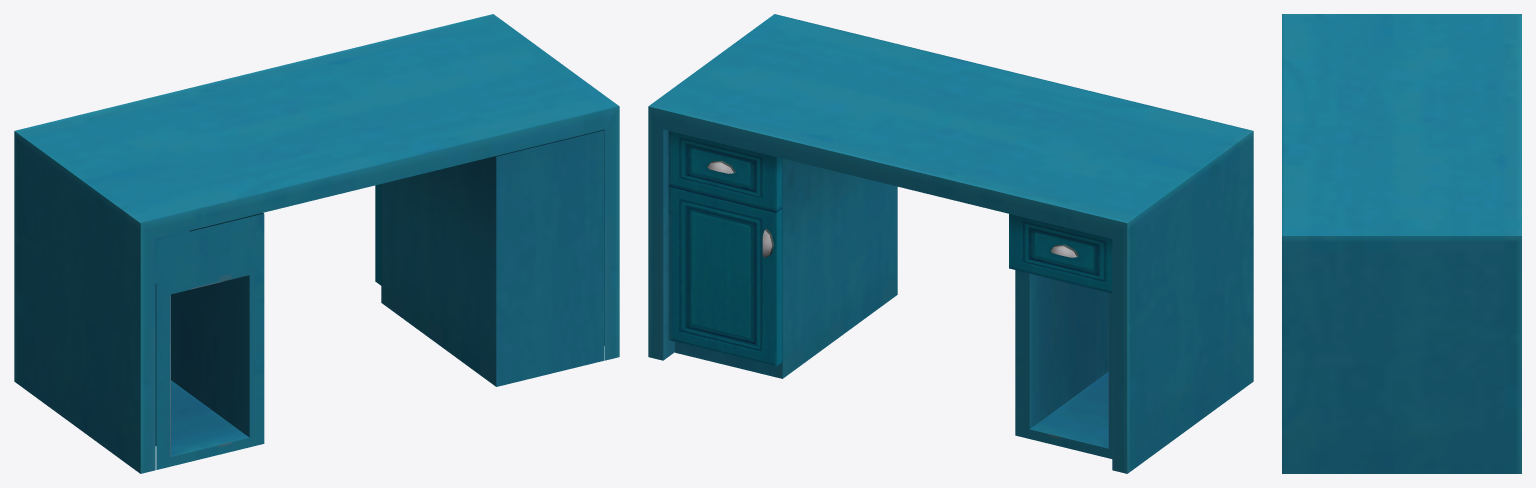
The model's file is furni_0200037_02.FBX.
3 views of the same model, side by side, from view 1: azimuth 30°, elevation 25°; view 2: azimuth 150°, elevation 25°; view 3: azimuth 270°, elevation 25° (orthographic). The views are drawn at different scales.
Parts seen in each view (by area): view 1: furni_0200037; view 2: furni_0200037; view 3: furni_0200037.
Part boxes in pixels (left/top/right/bottom): furni_0200037: left=14, top=14, right=619, bottom=473; furni_0200037: left=648, top=14, right=1253, bottom=473; furni_0200037: left=1282, top=14, right=1521, bottom=473.
Bounding box in the file's own units: 160 × 80 × 73.04.
1 material, 1 textured.
